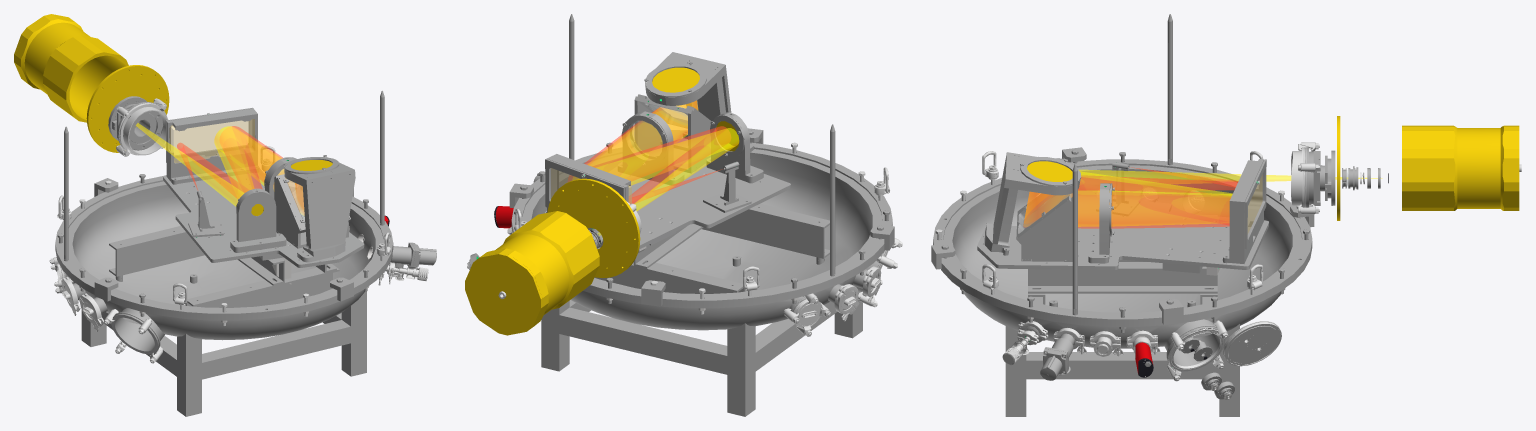
The model's file is night_AR.glb.
3 renders of one model, left to right at view 1: azimuth 30°, elevation 25°; view 2: azimuth 150°, elevation 25°; view 3: azimuth 270°, elevation 25°, orthographic. The views are drawn at different scales.
Visible parts, largest first — view 1: opaque (×5), beam-out, beam-in, glass; view 2: opaque (×4), beam-out, beam-in, glass (×2); view 3: opaque (×4), beam-out, beam-in, glass.
Boxes of the visible parts, x1,y1,x2,y2 form: opaque (×5): [14, 14, 436, 416]; beam-out: [136, 123, 304, 215]; beam-in: [177, 126, 303, 211]; glass: [169, 119, 254, 163]; opaque (×4): [465, 14, 902, 416]; beam-out: [572, 100, 739, 235]; beam-in: [568, 101, 730, 203]; glass (×2): [551, 99, 687, 242]; opaque (×4): [931, 14, 1521, 416]; beam-out: [1024, 169, 1382, 226]; beam-in: [1023, 167, 1238, 228]; glass: [1020, 170, 1348, 232].
Size of the model in its own units: 1.23 by 0.89 by 1.71.
